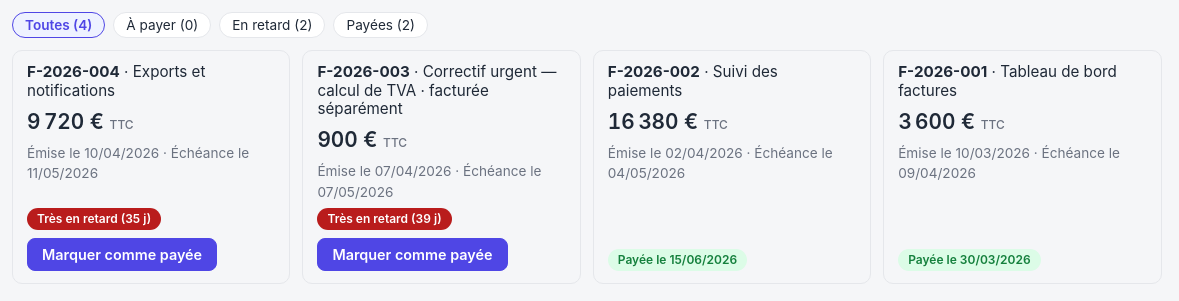
Test: InvoiceGallery › says so when a filter matches no invoice
Click the button "À payer (0)": (162, 25) x1=113 y1=12 x2=211 y2=38
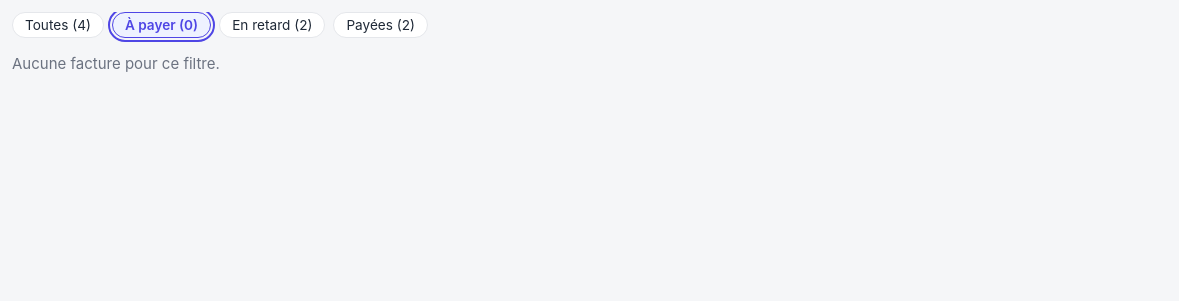
Expected: the text "Aucune facture pour ce filtre." is shown, x1=12 y1=54 x2=220 y2=73
